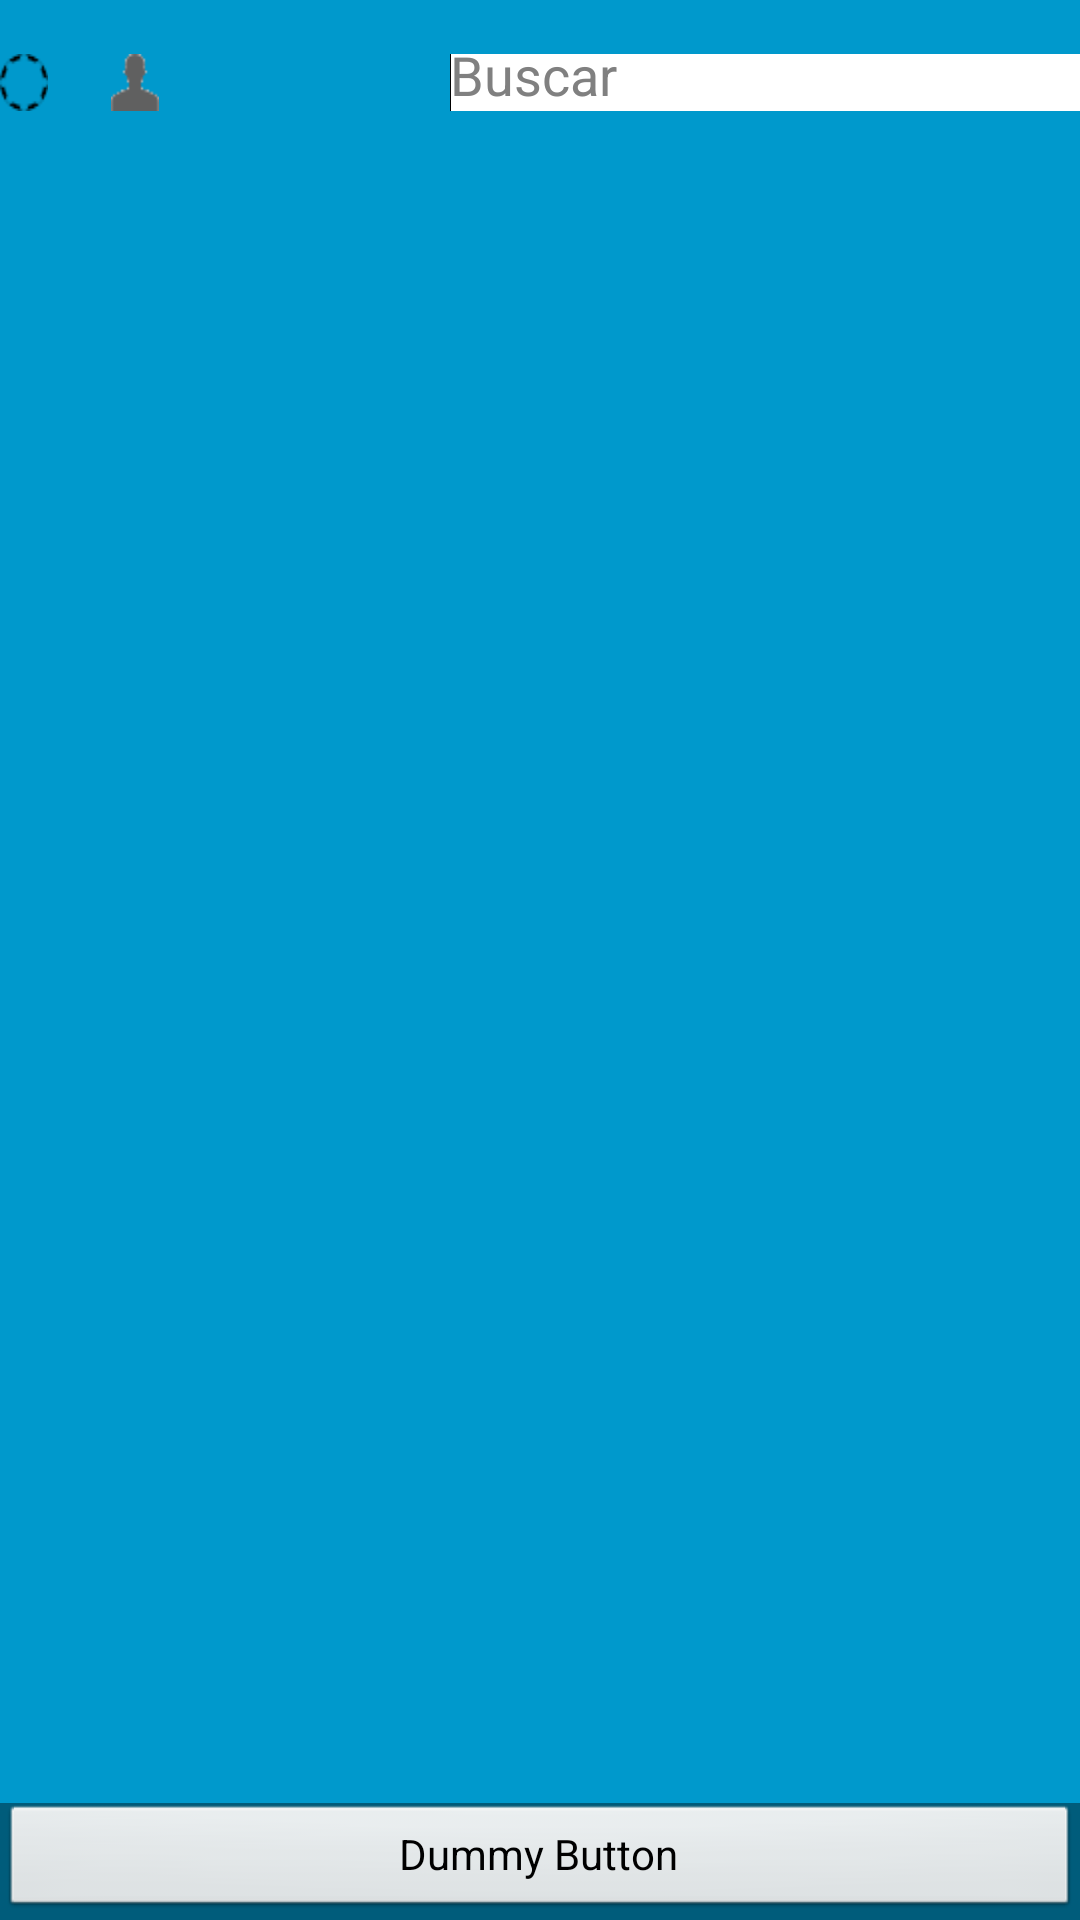

Icon click points for this 1080 × 1920 phone screenshot, format [x,y]:
friends: [135,82]
